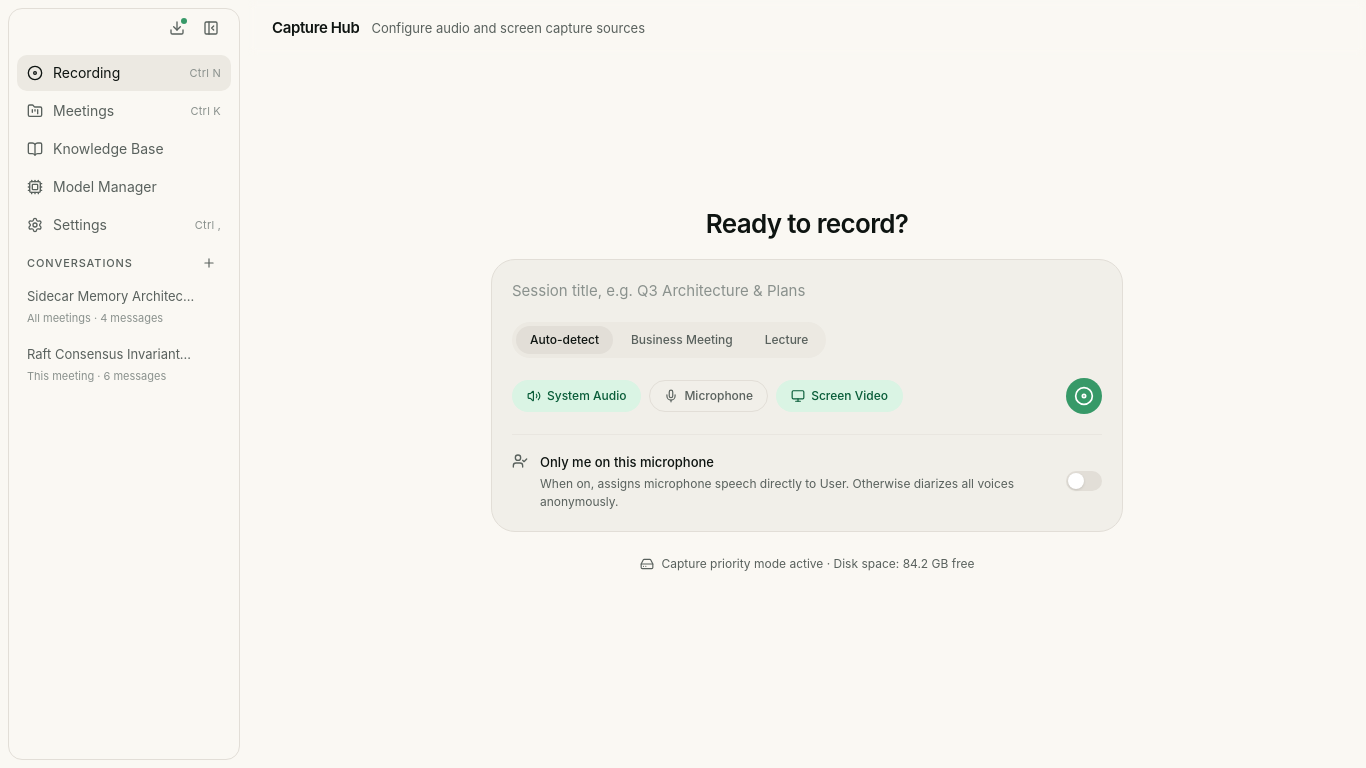
Scenario: Model downloads › drops only the download that ended and keeps the other one listed
What coordinates should you click on to do the following:
click the button named "Downloads"
I would click on:
 (177, 28)
Its box is [161,12,193,44].
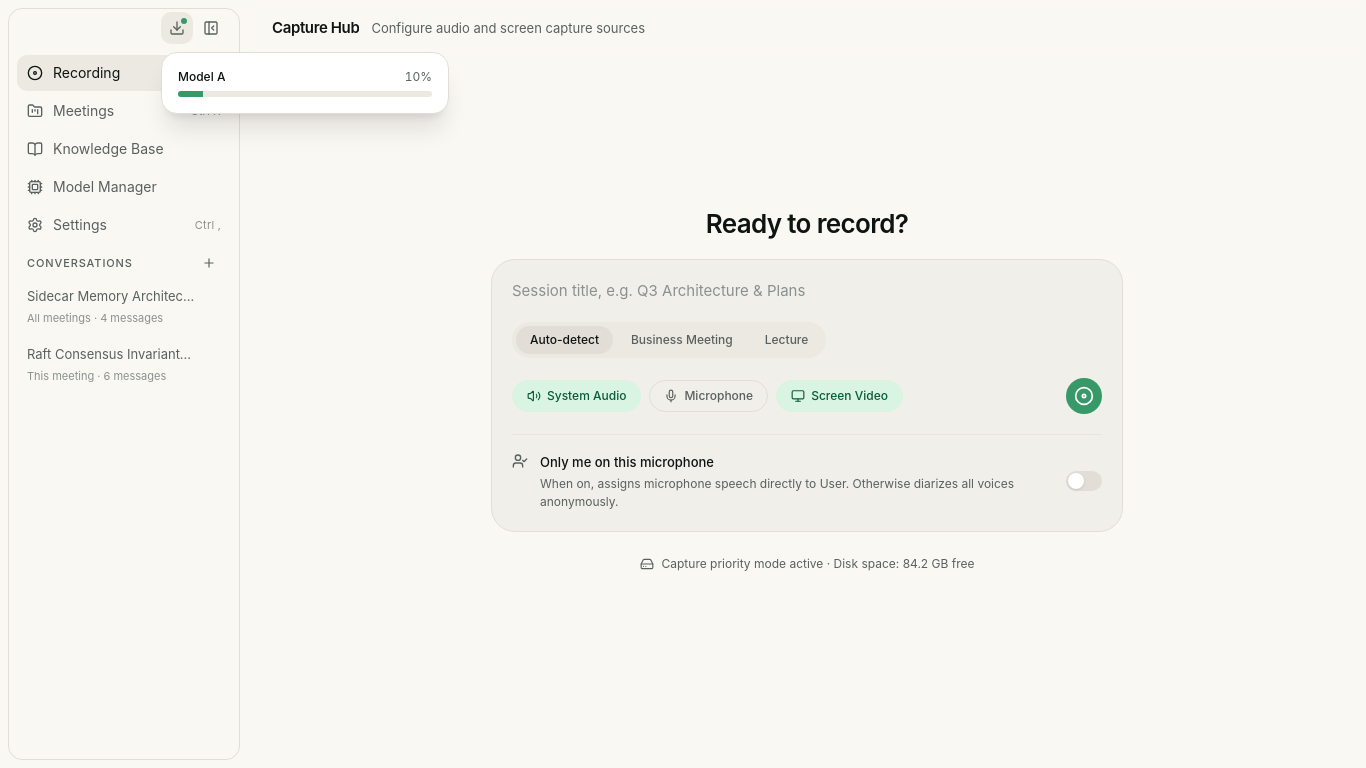
expect the text "Model A" is shown: met, box [178,69,225,85]
